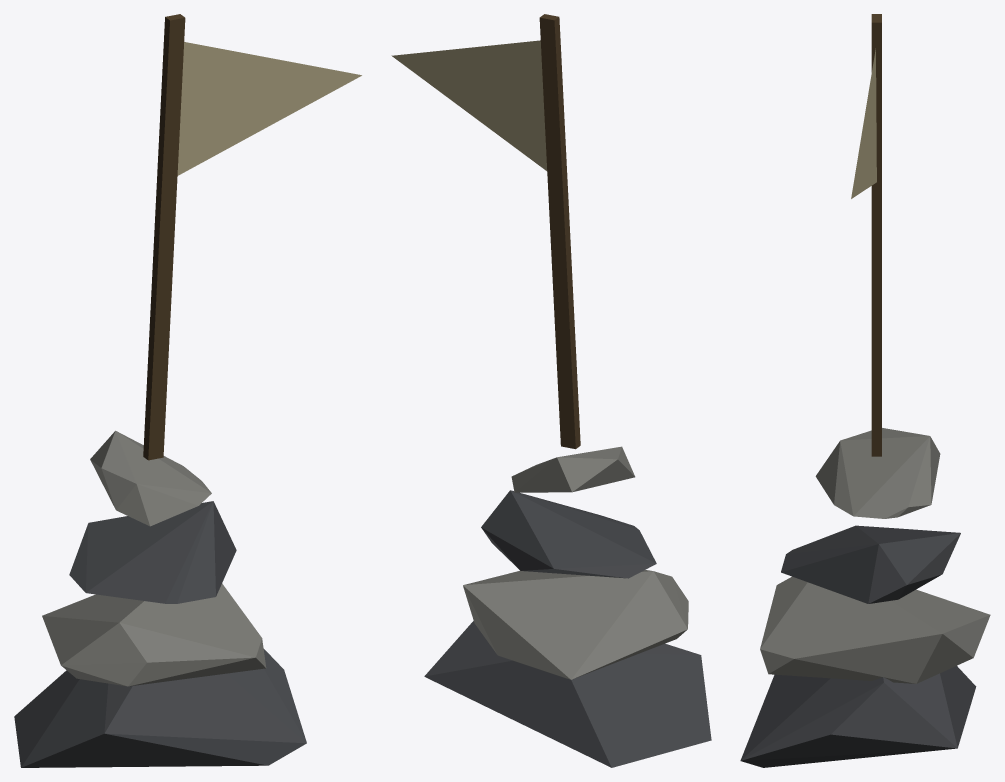
File: mod_cairn.glb
3 renders of one model, left to right at view 1: azimuth 30°, elevation 25°; view 2: azimuth 150°, elevation 25°; view 3: azimuth 270°, elevation 25°, orthographic. The views are drawn at different scales.
Parts seen in each view (by area): view 1: mod_cairn; view 2: mod_cairn; view 3: mod_cairn.
Part boxes in pixels (<box>): mod_cairn: <box>14,14,361,767</box>; mod_cairn: <box>391,14,711,767</box>; mod_cairn: <box>740,14,990,767</box>.
Bounding box in the file's own units: 0.7667 × 1.55 × 0.4841.
